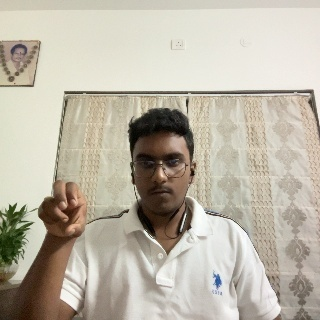Face: (130, 107, 197, 225)
No: (35, 179, 88, 260)
